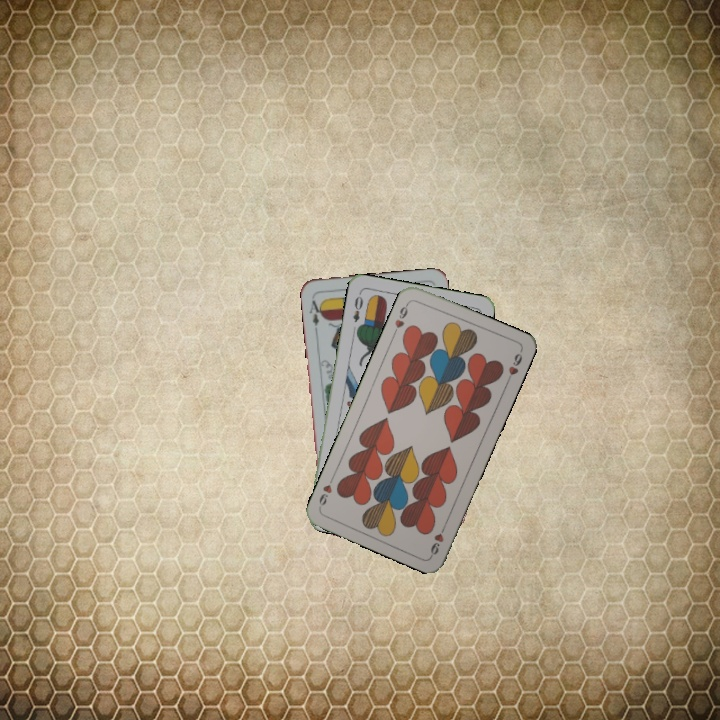EA: (305, 296, 325, 333)
EO: (349, 289, 366, 325)
H9: (389, 298, 412, 337), (427, 520, 449, 558)
